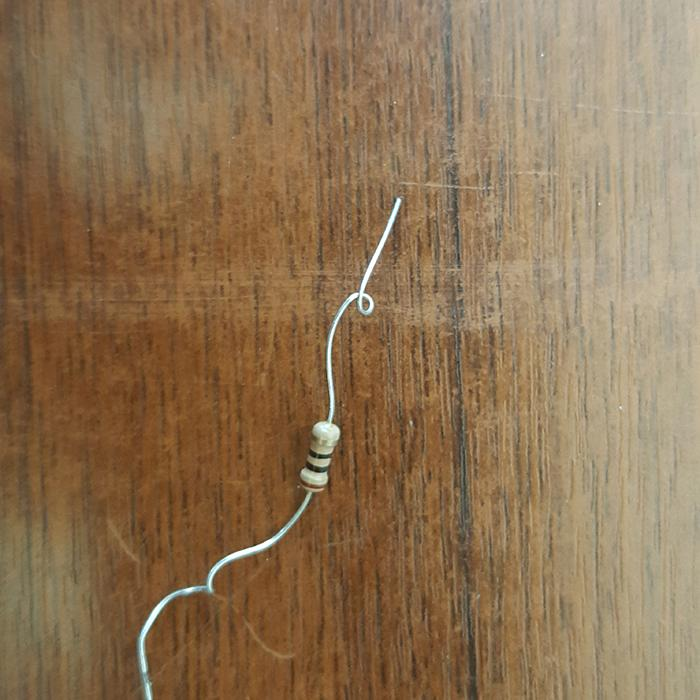resistor: (299, 420, 339, 490)
